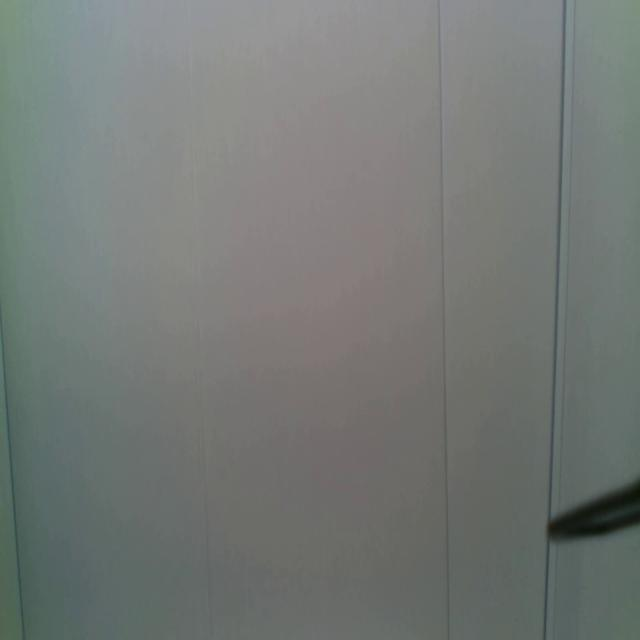crease: (187, 0, 213, 639), (548, 0, 578, 504), (436, 0, 453, 639), (0, 309, 27, 638), (542, 547, 562, 640)
